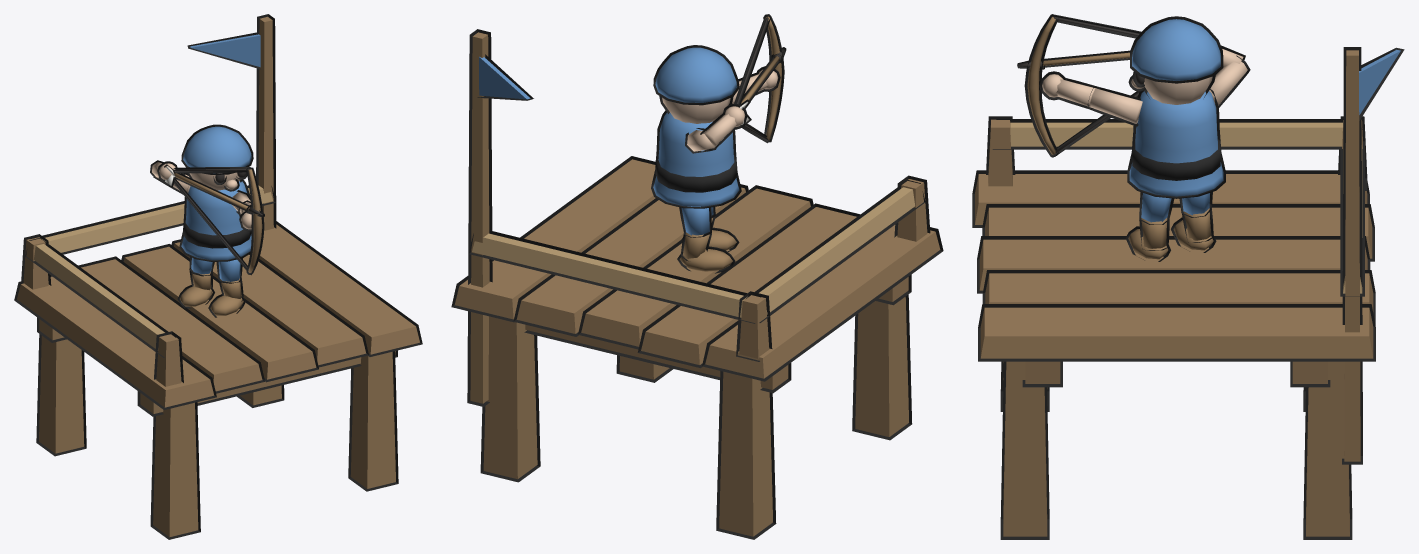
Rendered from td_archer.fbx.
3 views of the same model, side by side, from view 1: azimuth 30°, elevation 25°; view 2: azimuth 150°, elevation 25°; view 3: azimuth 270°, elevation 25° (orthographic). The views are drawn at different scales.
Parts seen in each view (by area): view 1: Prop_ArcherOutpost, Prop_Archer; view 2: Prop_ArcherOutpost, Prop_Archer; view 3: Prop_ArcherOutpost, Prop_Archer.
Boxes of the visible parts, x1,y1,x2,y2 form: Prop_ArcherOutpost: (14, 14, 422, 539); Prop_Archer: (150, 124, 264, 317); Prop_ArcherOutpost: (451, 29, 943, 539); Prop_Archer: (651, 14, 786, 273); Prop_ArcherOutpost: (972, 47, 1404, 539); Prop_Archer: (1017, 14, 1250, 261).
Bounding box in the file's own units: 113 × 153 × 123.
